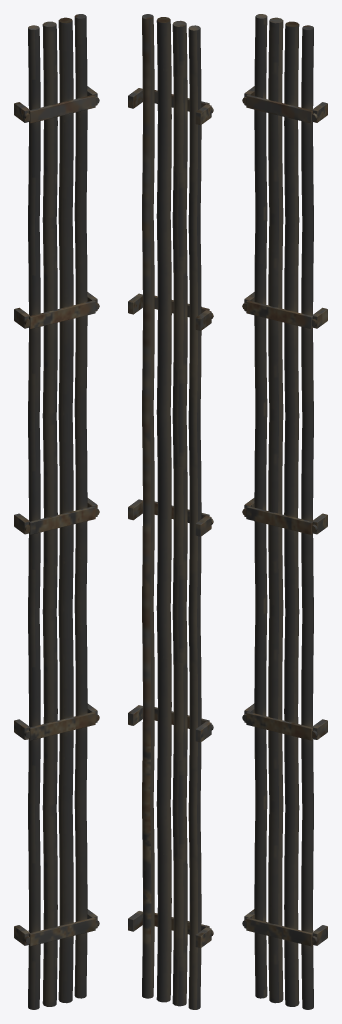
Rendered from Cable_Drop.fbx.
3 views of the same model, side by side, from view 1: azimuth 30°, elevation 25°; view 2: azimuth 150°, elevation 25°; view 3: azimuth 330°, elevation 25° (orthographic).
Parts seen in each view (by area): view 1: Cable_Drop_Mesh; view 2: Cable_Drop_Mesh; view 3: Cable_Drop_Mesh.
Boxes of the visible parts, x1=… form: Cable_Drop_Mesh: x1=14, y1=14, x2=99, y2=1009; Cable_Drop_Mesh: x1=128, y1=14, x2=213, y2=1009; Cable_Drop_Mesh: x1=242, y1=14, x2=327, y2=1009.
Size of the model in its own units: 0.158 by 2 by 0.047.
